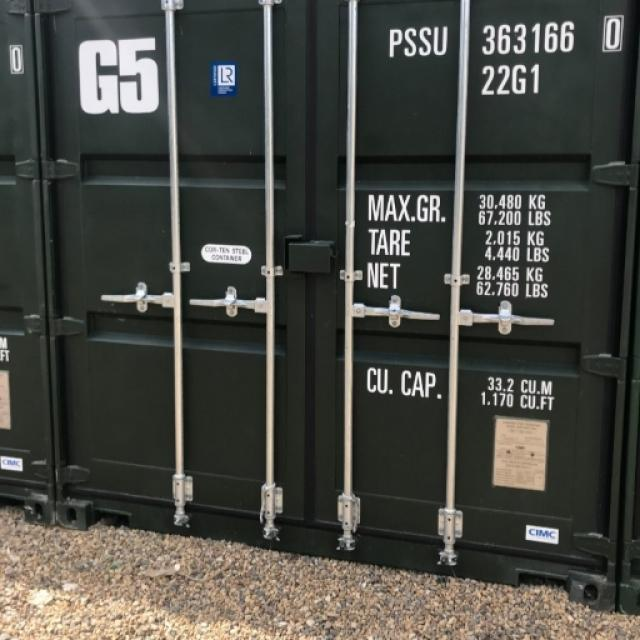ISO: (481, 63, 542, 97)
container_number: (384, 8, 624, 58)
